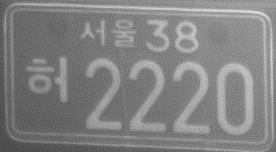0: (216, 62, 255, 137)
2: (170, 59, 212, 136), (127, 58, 168, 134), (85, 56, 123, 131)
3: (142, 17, 172, 52)
8: (174, 20, 199, 53)
서울_O: (79, 19, 138, 49)
허: (24, 55, 70, 103)
